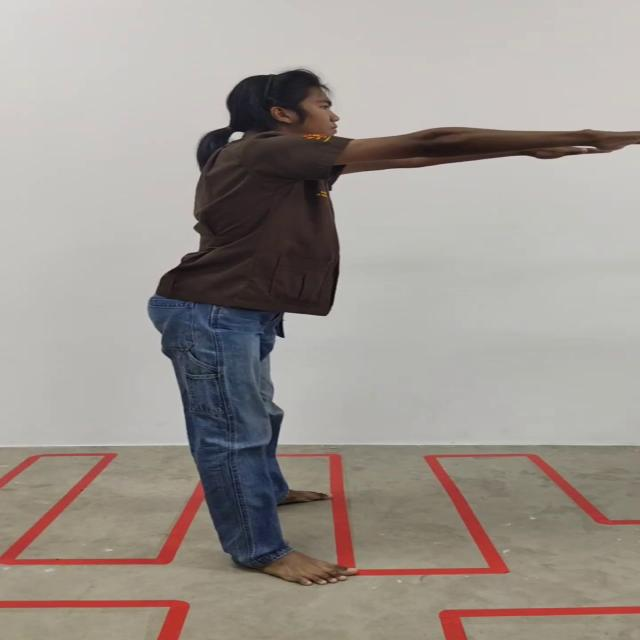stand: (149, 68, 640, 589)
